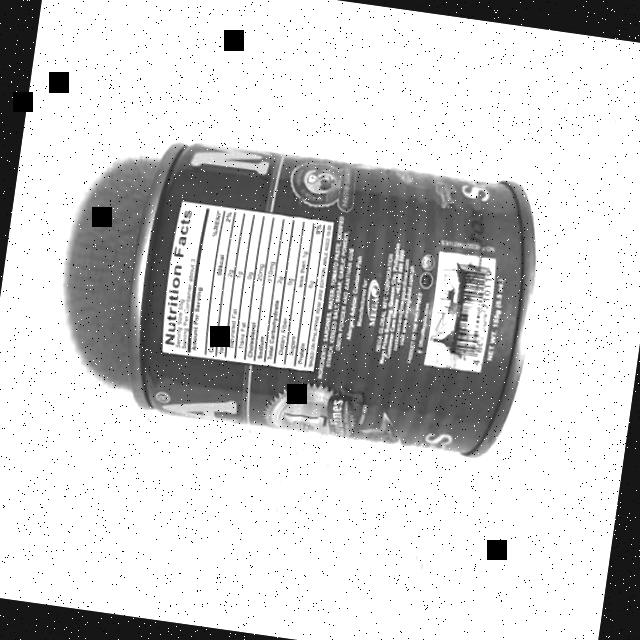can: (119, 130, 552, 462)
